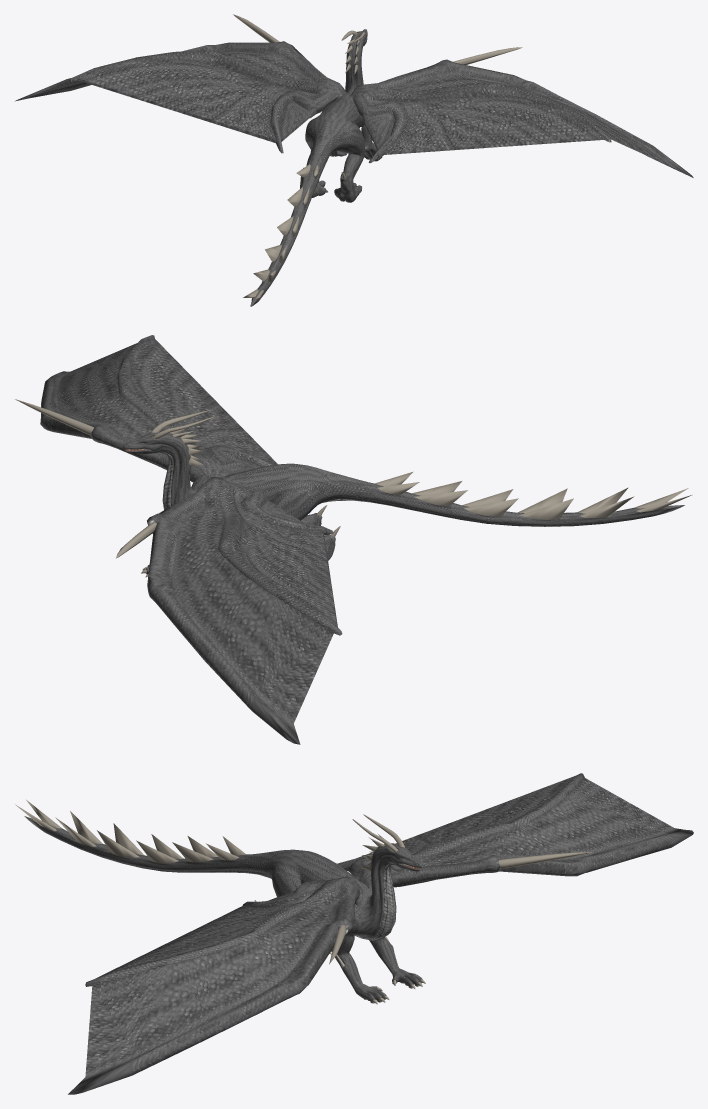
File: dragon.obj
3 renders of one model, top to bottom at view 1: azimuth 30°, elevation 25°; view 2: azimuth 150°, elevation 25°; view 3: azimuth 270°, elevation 25°, orthographic. The views are drawn at different scales.
Visible parts, largest first — view 1: Mesh9 Cube3 Assembly_233 Cube SimLab_2017_06_11_15_37_47_1 Model, Mesh3 Cube2 Assembly_233 Cube SimLab_2017_06_11_15_37_47_1 Model, Mesh5 Cube2 Assembly_233 Cube SimLab_2017_06_11_15_37_47_1 Model, Mesh7 Cube2 Assembly_233 Cube SimLab_2017_06_11_15_37_47_1 Model, Mesh6 Cube2 Assembly_233 Cube SimLab_2017_06_11_15_37_47_1 Model, Mesh4 Cube2 Assembly_233 Cube SimLab_2017_06_11_15_37_47_1 Model, Mesh8 Cube2 Assembly_233 Cube SimLab_2017_06_11_15_37_47_1 Model; view 2: Mesh9 Cube3 Assembly_233 Cube SimLab_2017_06_11_15_37_47_1 Model, Mesh6 Cube2 Assembly_233 Cube SimLab_2017_06_11_15_37_47_1 Model, Mesh3 Cube2 Assembly_233 Cube SimLab_2017_06_11_15_37_47_1 Model, Mesh5 Cube2 Assembly_233 Cube SimLab_2017_06_11_15_37_47_1 Model, Mesh7 Cube2 Assembly_233 Cube SimLab_2017_06_11_15_37_47_1 Model; view 3: Mesh9 Cube3 Assembly_233 Cube SimLab_2017_06_11_15_37_47_1 Model, Mesh7 Cube2 Assembly_233 Cube SimLab_2017_06_11_15_37_47_1 Model, Mesh6 Cube2 Assembly_233 Cube SimLab_2017_06_11_15_37_47_1 Model, Mesh5 Cube2 Assembly_233 Cube SimLab_2017_06_11_15_37_47_1 Model, Mesh3 Cube2 Assembly_233 Cube SimLab_2017_06_11_15_37_47_1 Model, Mesh27 Cube3 Assembly_233 Cube SimLab_2017_06_11_15_37_47_1 Mode.
Boxes of the visible parts, x1,y1,x2,y2 form: Mesh9 Cube3 Assembly_233 Cube SimLab_2017_06_11_15_37_47_1 Model: [15, 29, 693, 306]; Mesh3 Cube2 Assembly_233 Cube SimLab_2017_06_11_15_37_47_1 Model: [77, 60, 319, 143]; Mesh5 Cube2 Assembly_233 Cube SimLab_2017_06_11_15_37_47_1 Model: [368, 93, 604, 155]; Mesh7 Cube2 Assembly_233 Cube SimLab_2017_06_11_15_37_47_1 Model: [391, 75, 673, 167]; Mesh6 Cube2 Assembly_233 Cube SimLab_2017_06_11_15_37_47_1 Model: [34, 52, 310, 95]; Mesh4 Cube2 Assembly_233 Cube SimLab_2017_06_11_15_37_47_1 Model: [278, 100, 316, 141]; Mesh8 Cube2 Assembly_233 Cube SimLab_2017_06_11_15_37_47_1 Model: [362, 111, 394, 150]; Mesh9 Cube3 Assembly_233 Cube SimLab_2017_06_11_15_37_47_1 Model: [40, 335, 691, 744]; Mesh6 Cube2 Assembly_233 Cube SimLab_2017_06_11_15_37_47_1 Model: [170, 499, 333, 723]; Mesh3 Cube2 Assembly_233 Cube SimLab_2017_06_11_15_37_47_1 Model: [234, 491, 337, 626]; Mesh5 Cube2 Assembly_233 Cube SimLab_2017_06_11_15_37_47_1 Model: [130, 338, 277, 464]; Mesh7 Cube2 Assembly_233 Cube SimLab_2017_06_11_15_37_47_1 Model: [57, 343, 162, 440]; Mesh9 Cube3 Assembly_233 Cube SimLab_2017_06_11_15_37_47_1 Model: [15, 773, 693, 1094]; Mesh7 Cube2 Assembly_233 Cube SimLab_2017_06_11_15_37_47_1 Model: [85, 898, 341, 1076]; Mesh6 Cube2 Assembly_233 Cube SimLab_2017_06_11_15_37_47_1 Model: [404, 778, 673, 870]; Mesh5 Cube2 Assembly_233 Cube SimLab_2017_06_11_15_37_47_1 Model: [95, 885, 321, 978]; Mesh3 Cube2 Assembly_233 Cube SimLab_2017_06_11_15_37_47_1 Model: [358, 775, 575, 857]; Mesh27 Cube3 Assembly_233 Cube SimLab_2017_06_11_15_37_47_1 Mode: [498, 851, 595, 868].
Size of the model in its own units: 493 by 129 by 493.
1 material, 1 textured.
